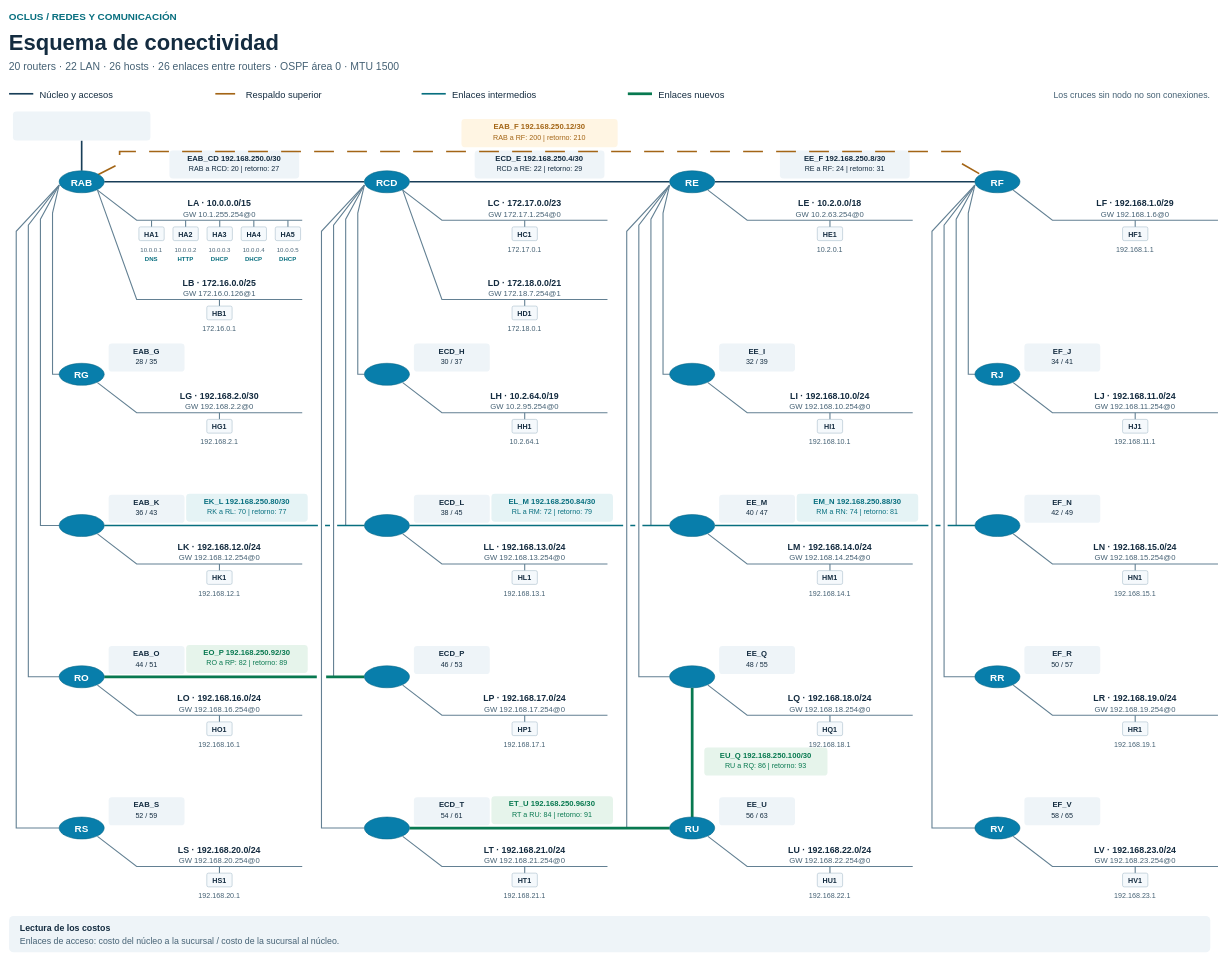
This 1227x961 diagram has some shape labels left out. Each missing label, with the centre of its shape:
"Internet / WAN · RAB eth8" belongs at [81,125].
"RH" belongs at [386,374].
"RI" belongs at [692,374].
"RK" belongs at [81,525].
"RL" belongs at [386,525].
"RM" belongs at [692,525].
"RN" belongs at [997,525].
"RP" belongs at [386,676].
"RQ" belongs at [692,676].
"RT" belongs at [386,827].
